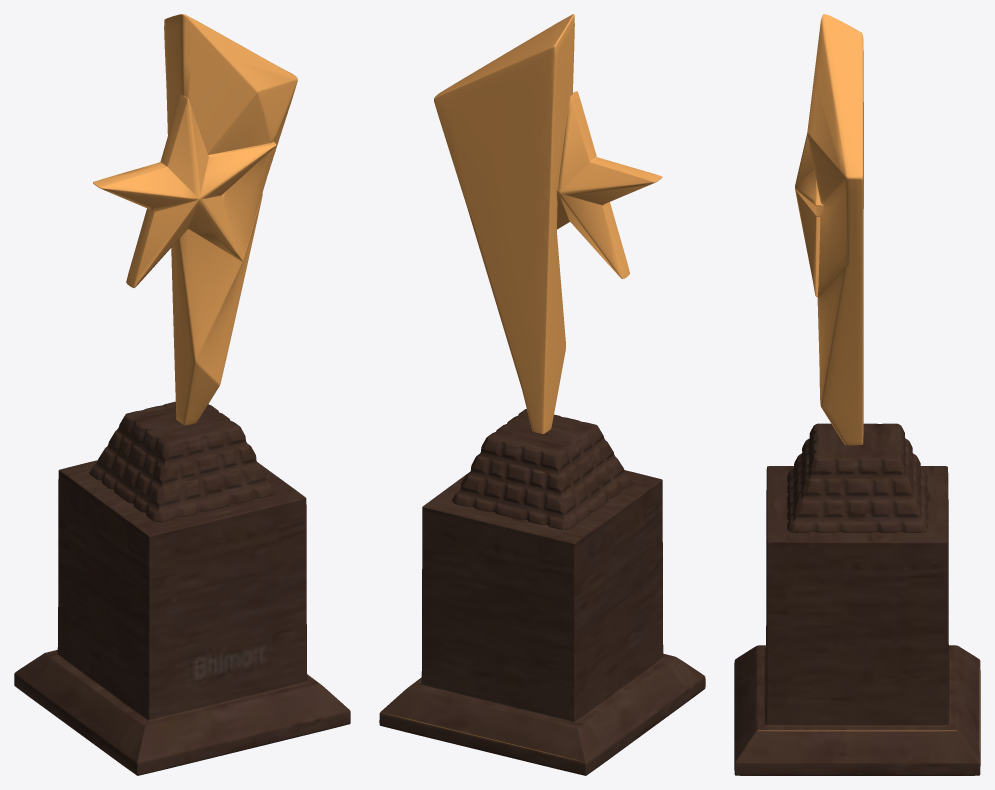
File: star-trophy.glb
3 renders of one model, left to right at view 1: azimuth 30°, elevation 25°; view 2: azimuth 150°, elevation 25°; view 3: azimuth 270°, elevation 25°, orthographic. The views are drawn at different scales.
Visible parts, largest first — view 1: Box001_Trofy_0; view 2: Box001_Trofy_0; view 3: Box001_Trofy_0.
Boxes of the visible parts, <box> form: Box001_Trofy_0: <box>14,14,350,775</box>; Box001_Trofy_0: <box>379,14,705,775</box>; Box001_Trofy_0: <box>734,14,980,775</box>.
Bounding box in the file's own units: 0.8351 × 2.59 × 0.8225.
Materials: 1 (1 with a texture image).
